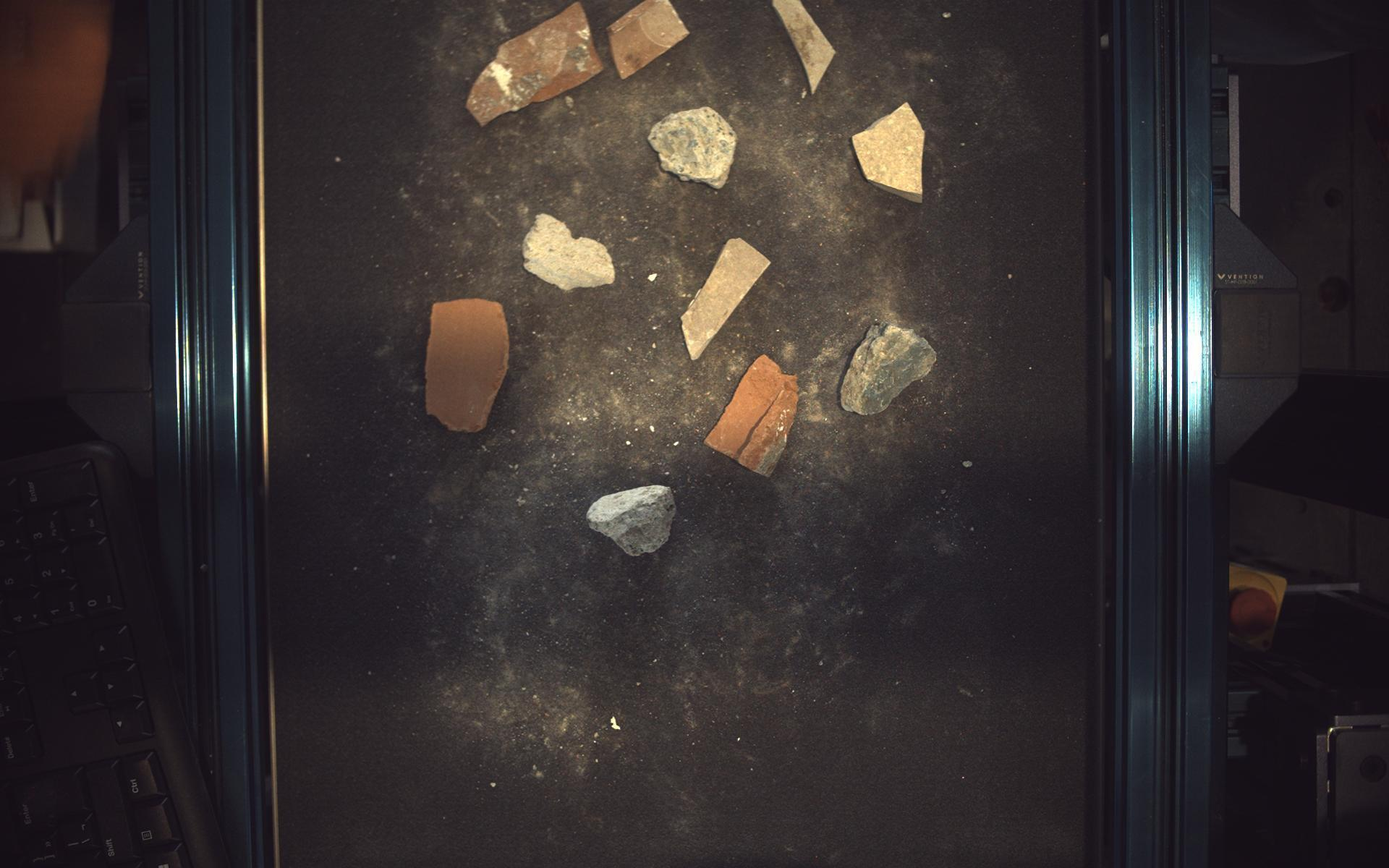brick: (466, 1, 603, 124), (705, 354, 799, 477), (425, 298, 509, 432), (608, 1, 689, 77)
concrete: (843, 323, 938, 415), (649, 106, 738, 188), (524, 213, 616, 291), (587, 485, 677, 557)
tile: (682, 238, 771, 359), (854, 101, 927, 202), (775, 1, 837, 92)
